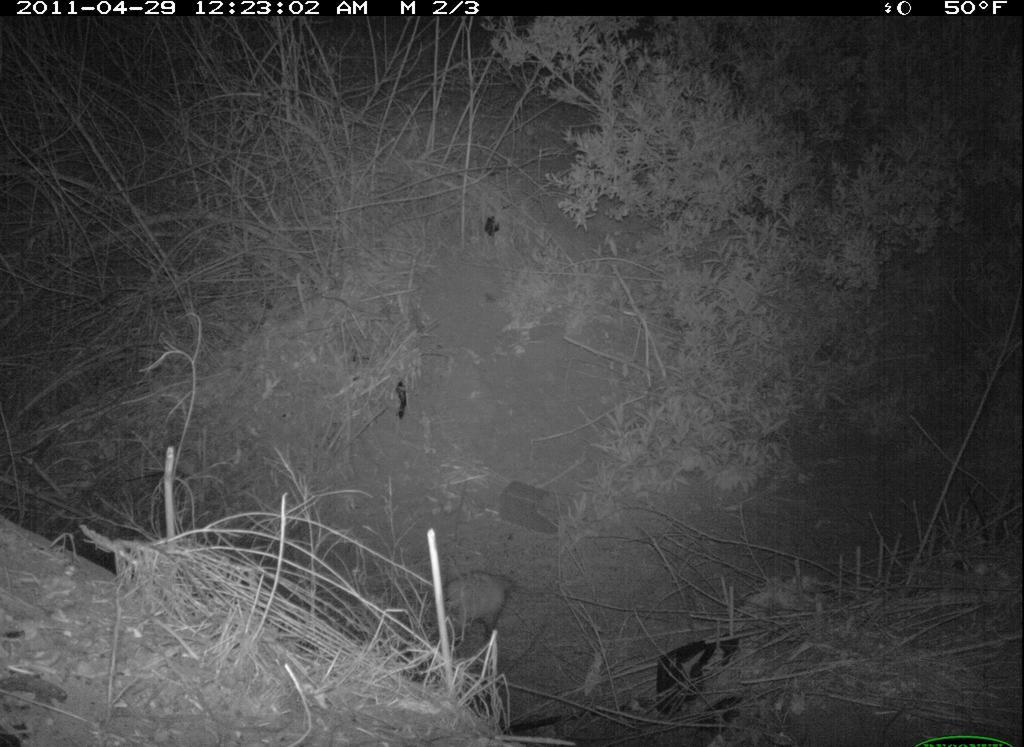opossum: (422, 560, 529, 658)
